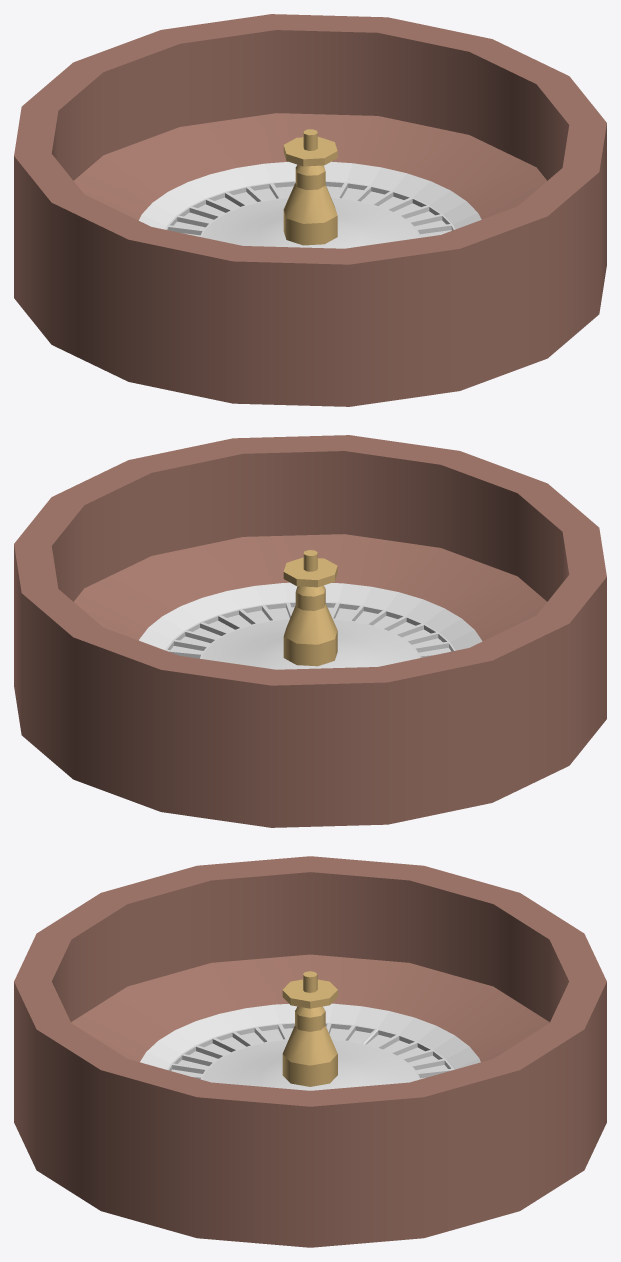
File: Roulette colliders.fbx
The picture shows the model from 3 angles, top to bottom: view 1: azimuth 30°, elevation 25°; view 2: azimuth 150°, elevation 25°; view 3: azimuth 270°, elevation 25°; orthographic projection.
Parts seen in each view (by area): view 1: roulette collider, roulette inner collider; view 2: roulette collider, roulette inner collider; view 3: roulette collider, roulette inner collider.
Part boxes in pixels (<box>): roulette collider: <box>14,14,606,406</box>; roulette inner collider: <box>139,129,481,248</box>; roulette collider: <box>14,435,606,827</box>; roulette inner collider: <box>139,550,482,669</box>; roulette collider: <box>14,856,606,1247</box>; roulette inner collider: <box>140,971,480,1090</box>.
Bounding box in the file's own units: 150 × 41.27 × 150.
